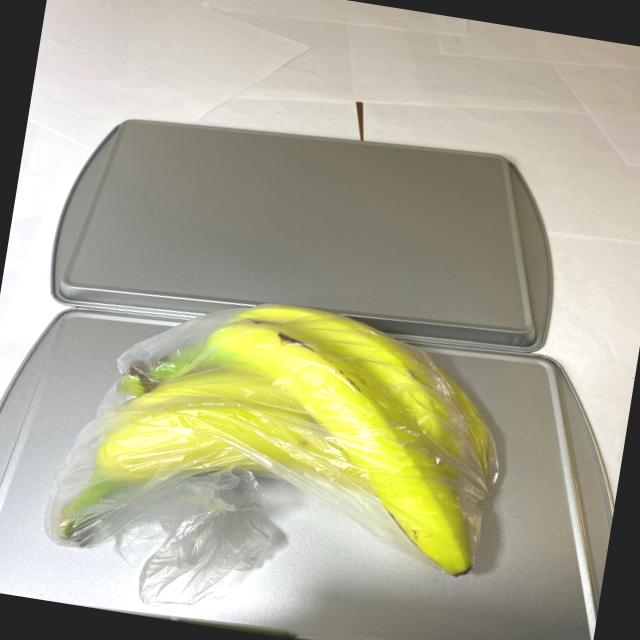banana: (23, 266, 530, 610)
